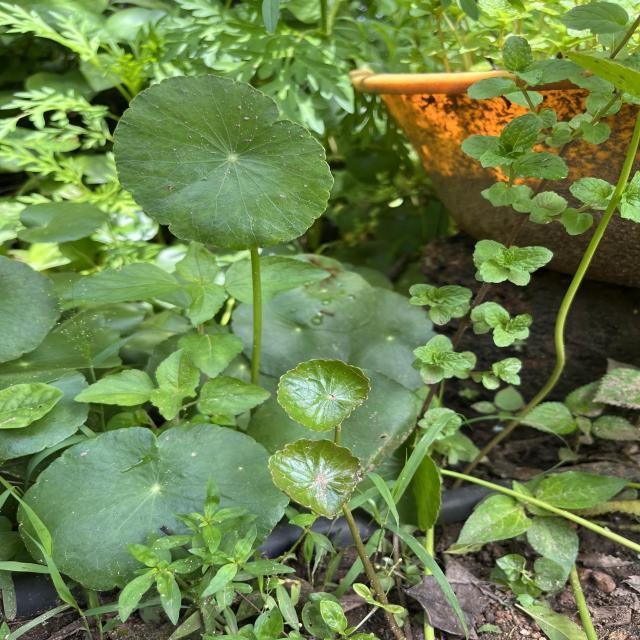Bacopa monnieri: (13, 419, 294, 594), (109, 72, 337, 254), (266, 434, 368, 523), (274, 356, 374, 434)
